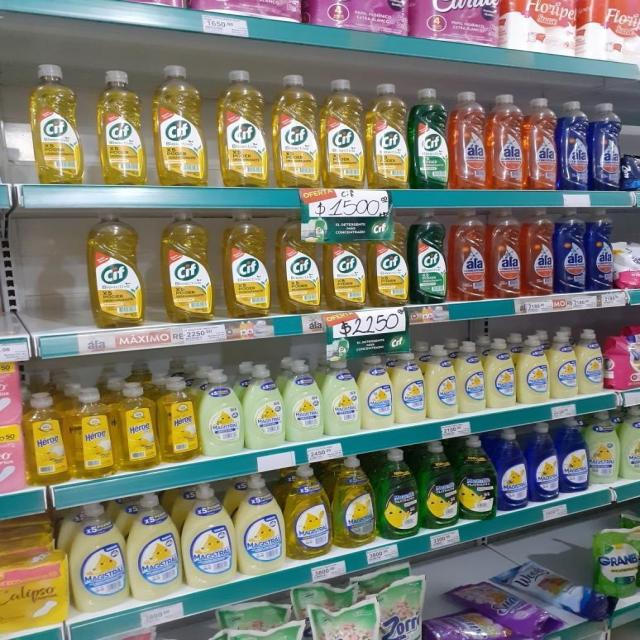ala_conc_azul: (559, 100, 590, 192), (591, 102, 621, 192), (555, 209, 586, 293), (587, 208, 615, 292)
ala_conc_rojo: (451, 90, 487, 190), (488, 93, 525, 190), (449, 208, 486, 302), (488, 208, 522, 299), (526, 96, 558, 192), (523, 208, 554, 297)
cif_conc_bot_amarilla: (151, 65, 207, 186), (88, 211, 145, 328), (29, 62, 83, 185), (217, 68, 270, 188), (161, 210, 214, 324), (96, 68, 144, 185), (222, 210, 272, 318), (273, 73, 319, 188), (321, 78, 365, 188), (276, 211, 322, 314), (366, 81, 409, 189), (369, 212, 409, 307), (324, 220, 366, 310)
cif_conc_botella_verde: (411, 86, 448, 190), (411, 208, 447, 304)
cif_conc_sachet_verde: (223, 593, 304, 640)
heroe: (160, 375, 198, 463)
magistral_con_amarillo: (286, 464, 331, 560), (333, 456, 376, 548)
magistral_con_azul: (496, 428, 528, 511), (529, 422, 558, 502), (560, 417, 588, 493)
magistral_con_crema: (70, 501, 126, 612), (128, 491, 180, 600), (182, 483, 234, 587), (236, 473, 284, 574), (200, 369, 242, 456), (244, 363, 284, 449), (285, 359, 322, 442), (324, 358, 359, 436), (361, 354, 392, 430), (589, 410, 620, 484), (394, 351, 425, 424), (426, 344, 456, 419), (518, 335, 549, 404), (486, 338, 516, 408), (458, 340, 485, 414), (550, 330, 577, 399), (578, 328, 604, 395), (622, 405, 640, 480)
